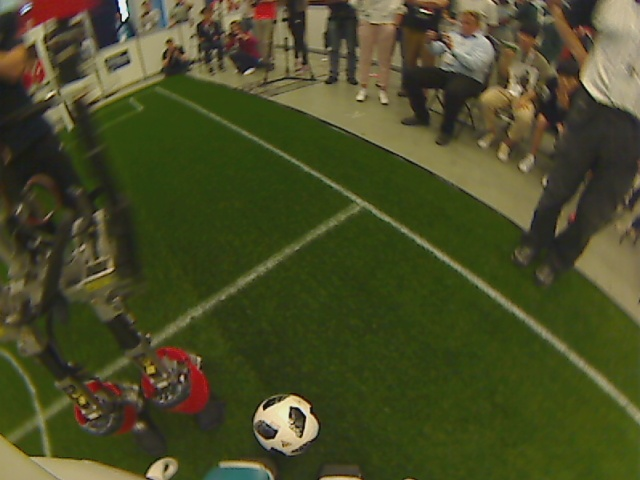ball: (251, 391, 316, 461)
